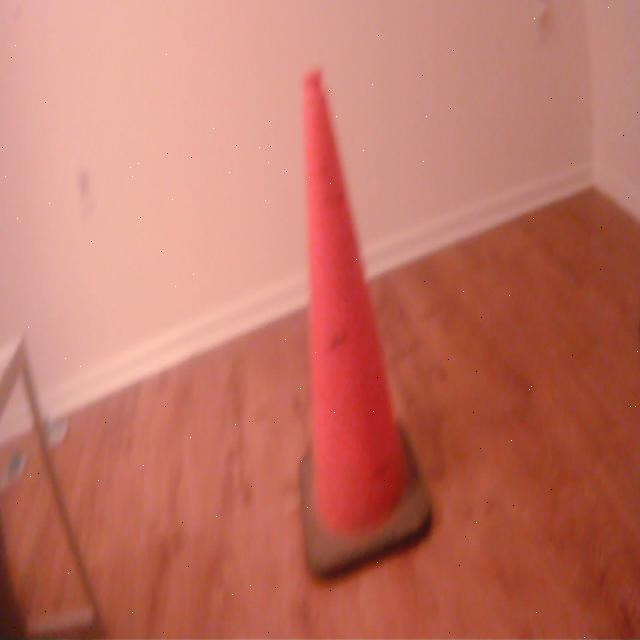traffic cone: (295, 65, 439, 583)
